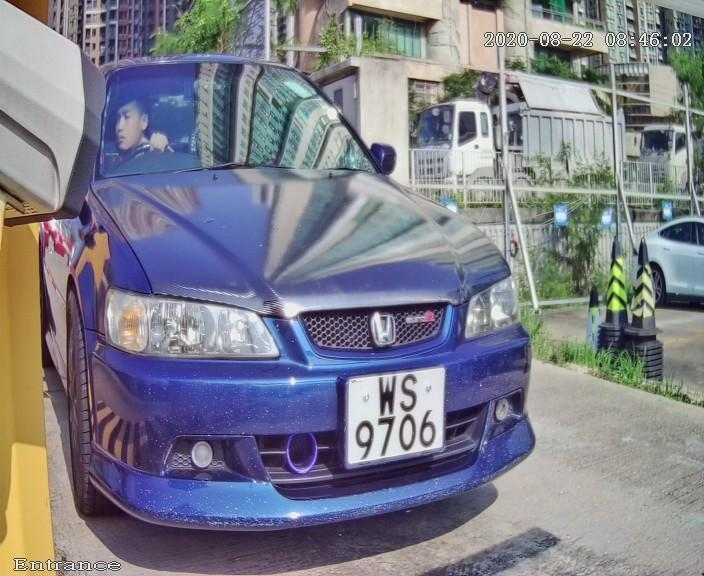Car: (41, 8, 573, 576)
License Plate: (337, 361, 453, 476)
